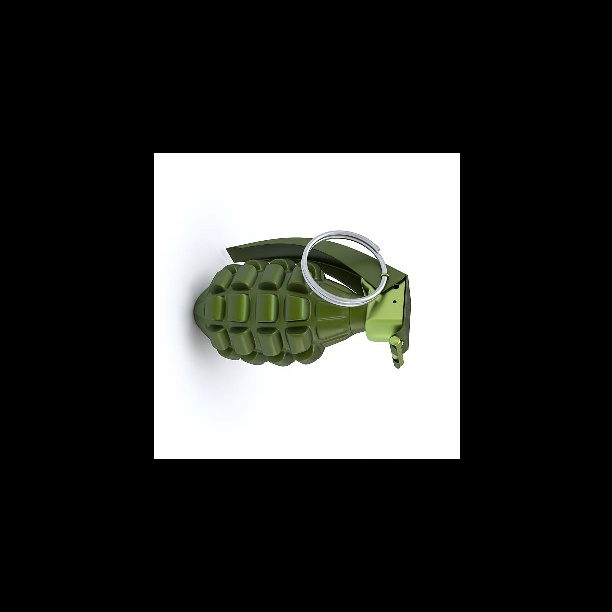e1: (193, 230, 413, 374)
